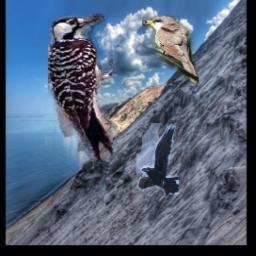Crow: (137, 124, 180, 195)
Cuckoo: (142, 16, 199, 84)
Woodpecker: (49, 14, 114, 160)
